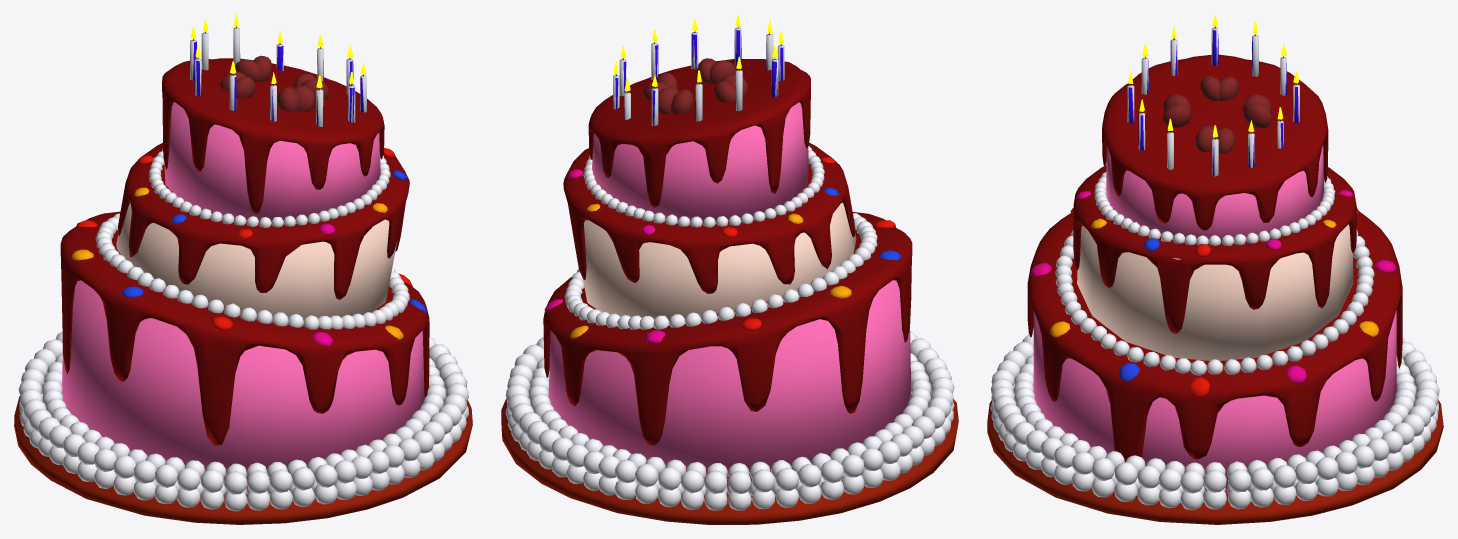
The model's file is birthday_cake.glb.
3 views of the same model, side by side, from view 1: azimuth 30°, elevation 25°; view 2: azimuth 150°, elevation 25°; view 3: azimuth 270°, elevation 25° (orthographic).
Parts seen in each view (by area): view 1: Topping1.002; view 2: Topping1.002; view 3: Topping1.002.
Part boxes in pixels (x1,y1,x2,y2): Topping1.002: (14,14,472,524); Topping1.002: (501,14,958,524); Topping1.002: (987,14,1443,524).
Bounding box in the file's own units: 2.01 × 1.9 × 2.
